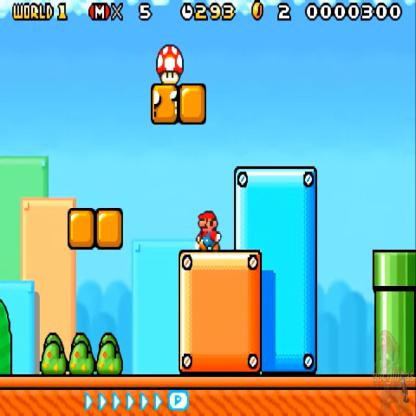Mario: (196, 207, 223, 252), (252, 0, 265, 22)
hongo: (155, 38, 185, 83)
